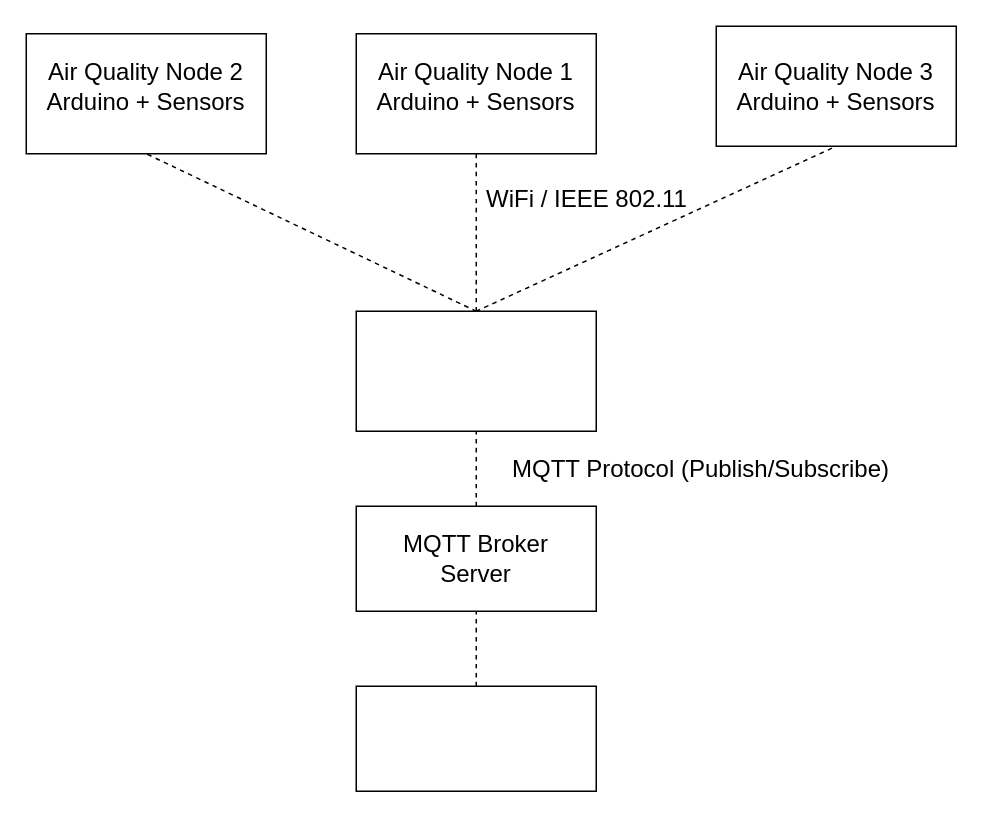
Image size: 983x833. Some labels were removed from this diagram. The centre of each missing label's shape, as x and y in pixels:
"Monitoring PC IoT Dashboard" goes at point (475, 738).
"Wireless Router Network Gateway" goes at point (475, 370).
